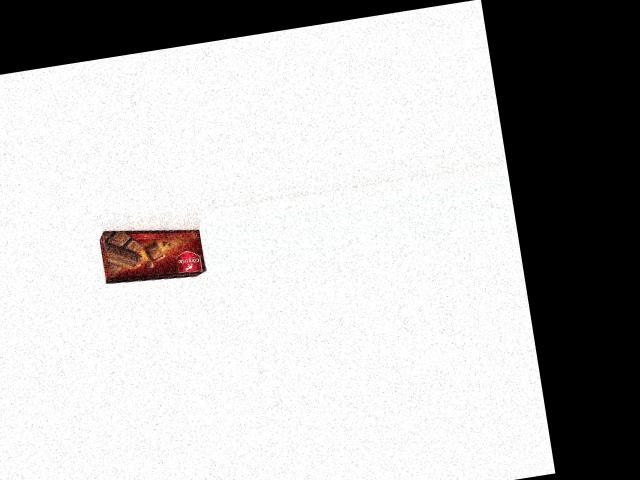chocolate: (99, 214, 207, 291)
